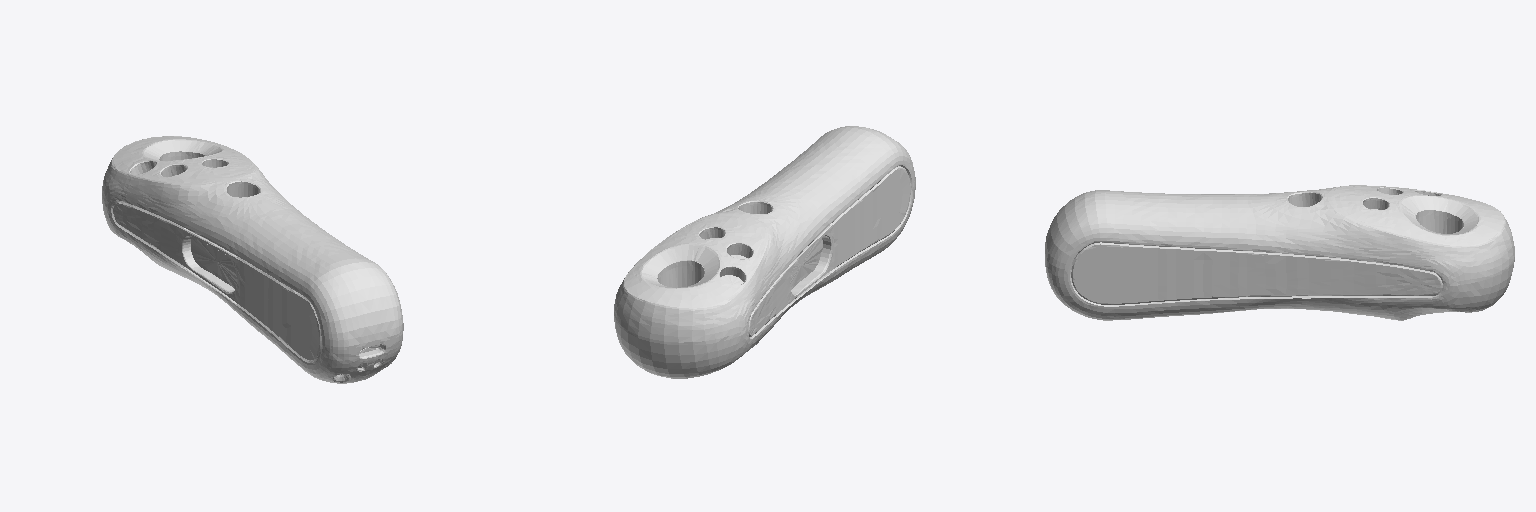
File: right_body.obj
3 views of the same model, side by side, from view 1: azimuth 30°, elevation 25°; view 2: azimuth 150°, elevation 25°; view 3: azimuth 270°, elevation 25° (orthographic).
Parts seen in each view (by area): view 1: right_body; view 2: right_body; view 3: right_body.
Boxes of the visible parts, x1=… form: right_body: x1=102, y1=136, x2=403, y2=383; right_body: x1=614, y1=126, x2=915, y2=378; right_body: x1=1045, y1=185, x2=1514, y2=320.
Bounding box in the file's own units: 0.0468 × 0.0423 × 0.1512.